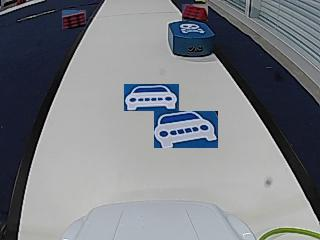danger: (180, 22, 203, 33)
